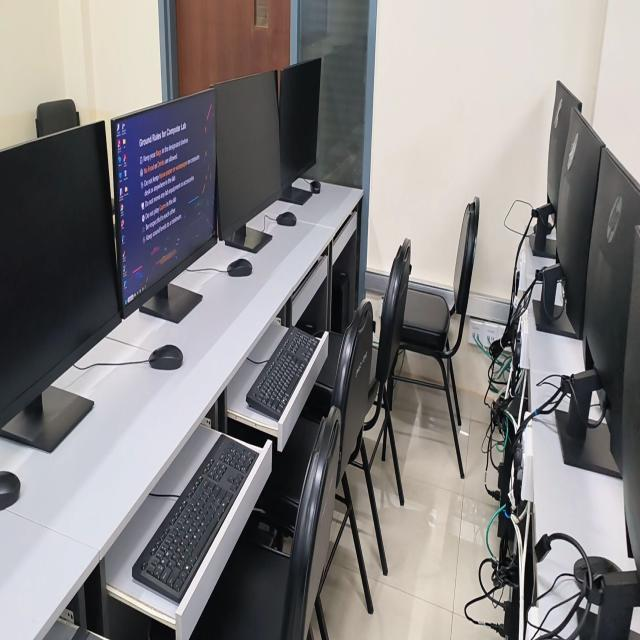Chair: (191, 411, 339, 639), (398, 199, 479, 478), (331, 293, 388, 616), (365, 239, 411, 505), (254, 410, 326, 525), (304, 324, 349, 413), (35, 99, 79, 137)
Cpu: (333, 263, 350, 330)
Keyboard: (132, 435, 258, 600), (246, 328, 319, 420)
Monitor: (0, 121, 121, 452), (555, 149, 640, 478), (111, 91, 217, 323), (594, 225, 640, 639), (532, 109, 603, 340), (214, 71, 281, 252), (529, 81, 582, 259), (278, 59, 321, 205)
Mouse: (148, 344, 183, 370), (0, 471, 20, 510), (227, 258, 252, 276), (276, 212, 296, 226), (310, 181, 320, 193)
